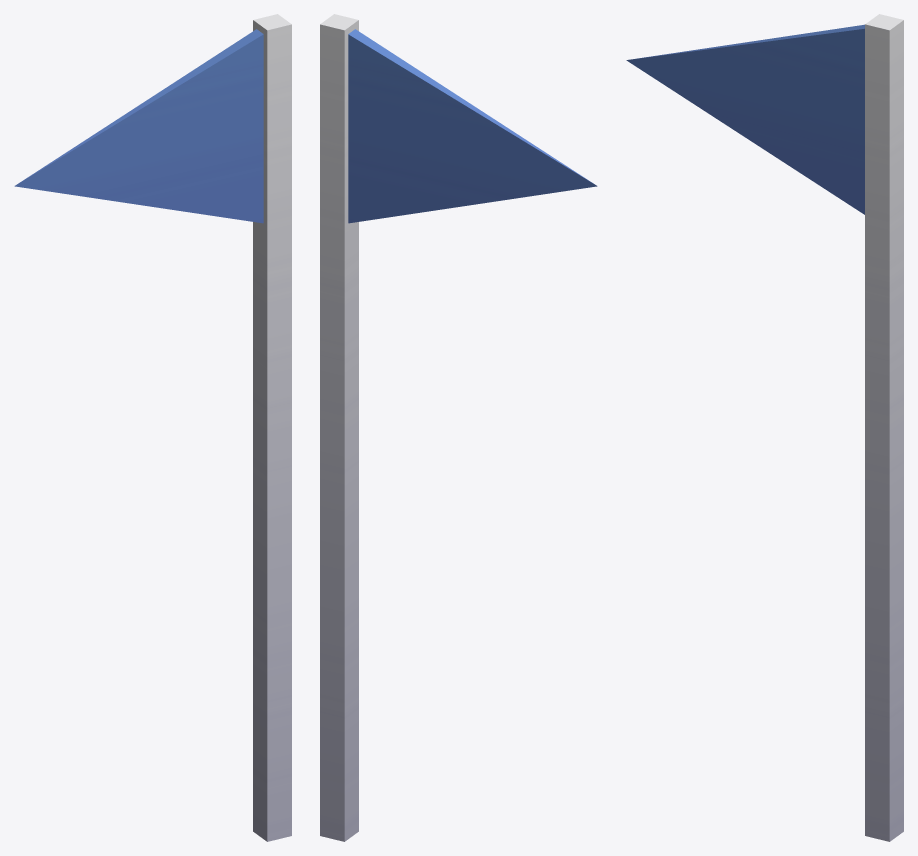
Rendered from flag-blue.fbx.
The picture shows the model from 3 angles, left to right: view 1: azimuth 30°, elevation 25°; view 2: azimuth 150°, elevation 25°; view 3: azimuth 330°, elevation 25°; orthographic projection.
Parts seen in each view (by area): view 1: flag_blue; view 2: flag_blue; view 3: flag_blue.
Part boxes in pixels (<box>): flag_blue: <box>14,14,291,841</box>; flag_blue: <box>320,14,597,841</box>; flag_blue: <box>626,14,903,841</box>.
Bounding box in the file's own units: 36.66 × 105 × 3.33.
1 material, 1 textured.
